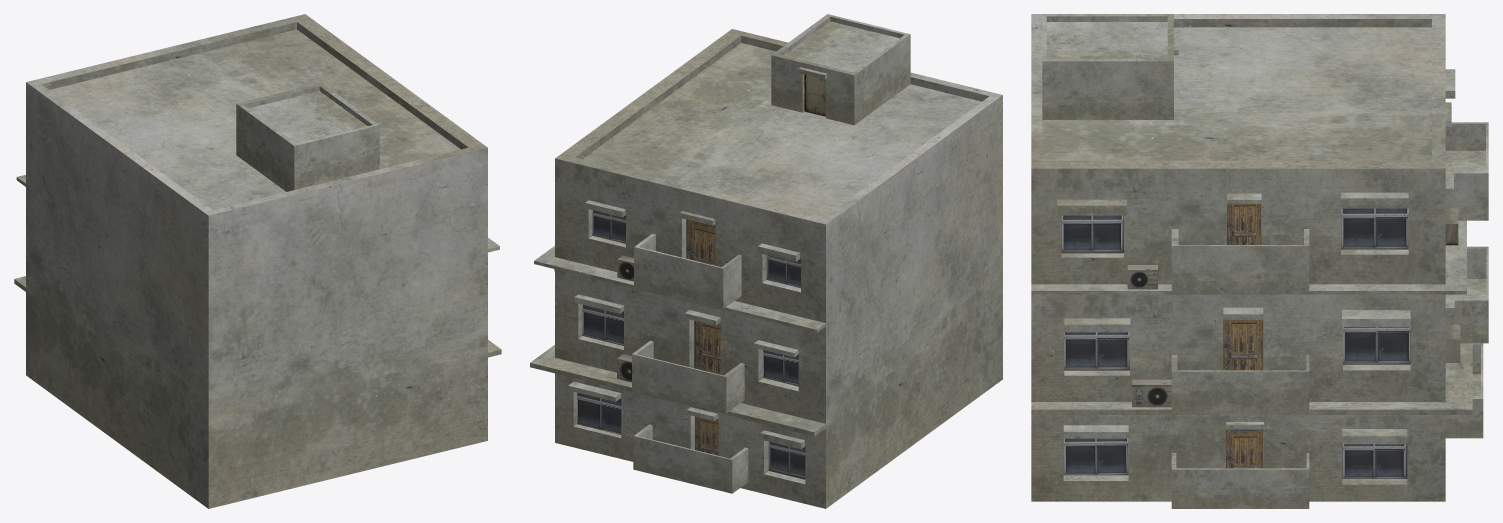
The picture shows the model from 3 angles, left to right: view 1: azimuth 30°, elevation 25°; view 2: azimuth 150°, elevation 25°; view 3: azimuth 270°, elevation 25°; orthographic projection. The views are drawn at different scales.
Parts seen in each view (by area): view 1: Model; view 2: Model; view 3: Model.
Part boxes in pixels (x1,y1,x2,y2): Model: [14, 14, 501, 508]; Model: [530, 14, 1002, 508]; Model: [1031, 14, 1488, 508].
Size of the model in its own units: 456 by 474 by 512.
